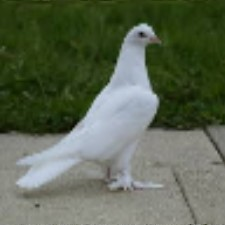pigeon: (15, 22, 168, 194)
